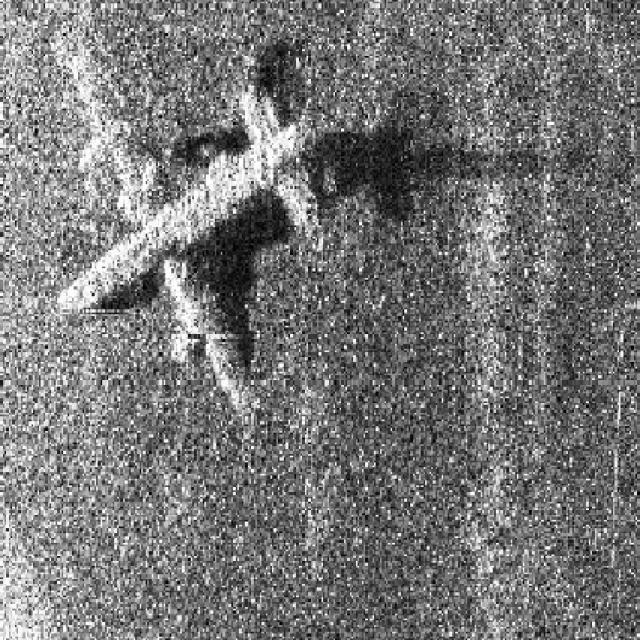plane: (35, 32, 389, 366)
